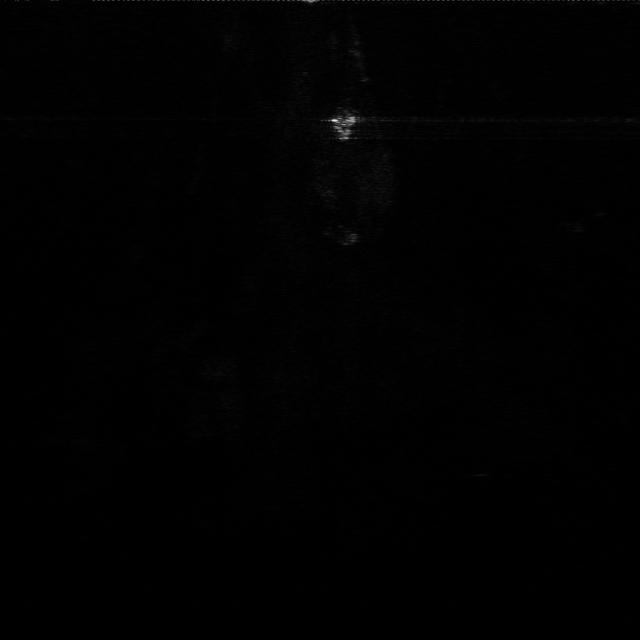rov: (324, 112, 364, 143)
